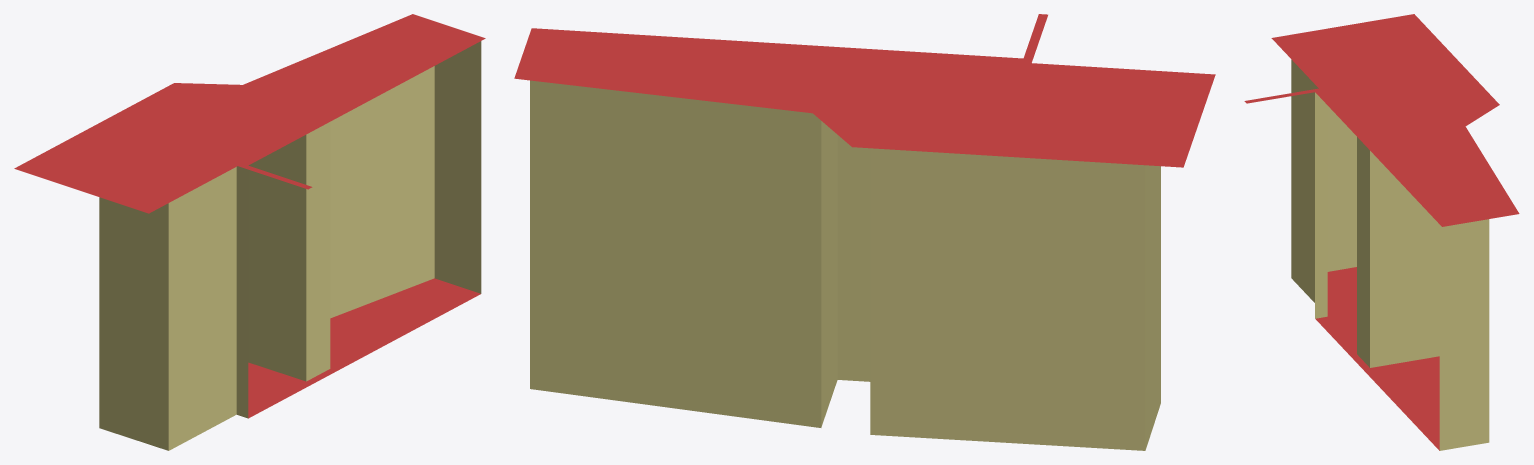
The picture shows the model from 3 angles, left to right: view 1: azimuth 30°, elevation 25°; view 2: azimuth 150°, elevation 25°; view 3: azimuth 270°, elevation 25°; orthographic projection. The views are drawn at different scales.
Size of the model in its own units: 18.83 by 10.29 by 9.34.
